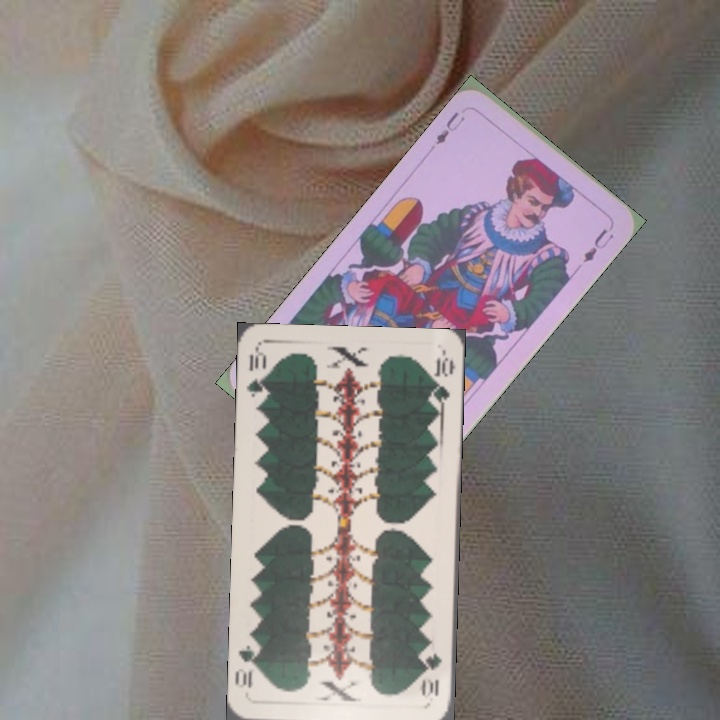EU: (431, 107, 468, 148)
G10: (242, 348, 270, 407), (419, 649, 445, 701)
